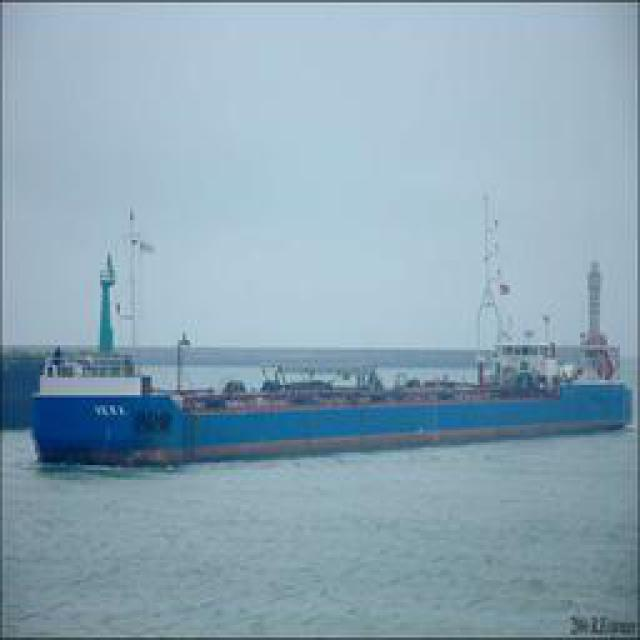Ship: (31, 362, 609, 465)
